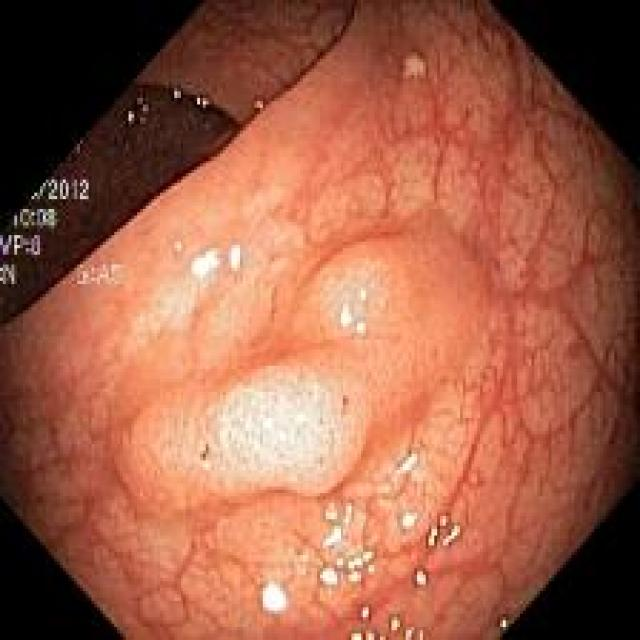Polyps: (294, 230, 488, 431), (202, 367, 369, 497)
